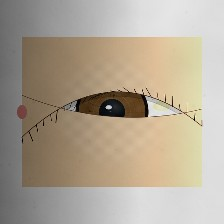pinguecula_lesion: (144, 92, 179, 120)
